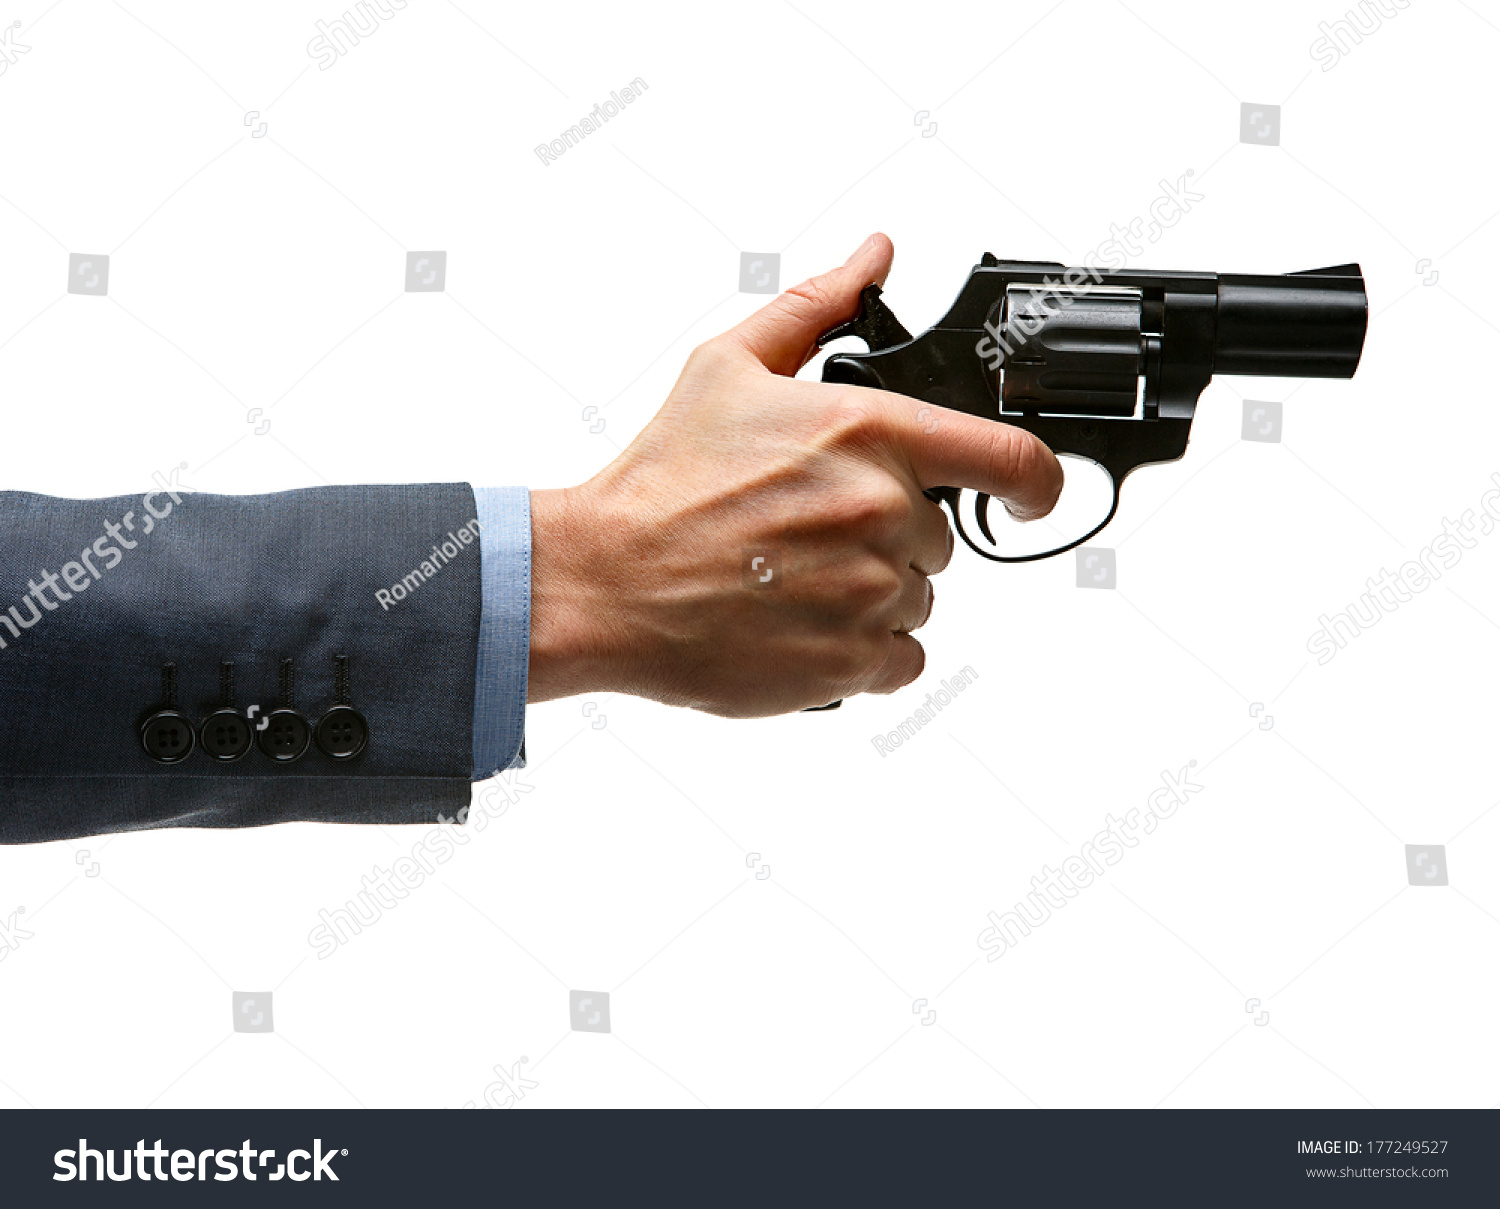Revolver: (762, 197, 1403, 588)
